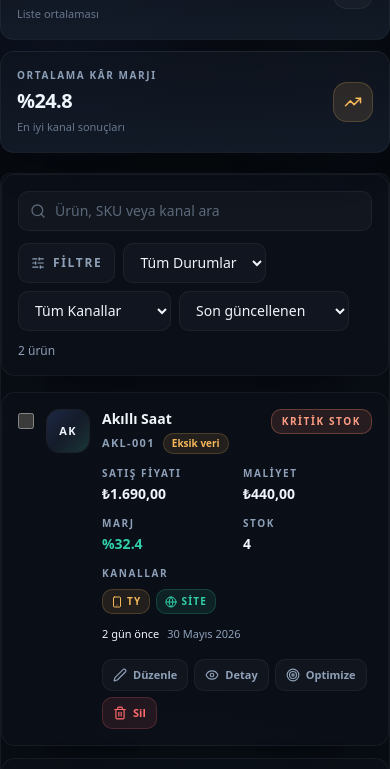
Scenario: DataCenterTabs › renders the products workspace with helper card, compact stats, and dense financial table
(page scrolled)
Expected: the text "Ortalama Kâr Marjı" is shown, [17,68,157,83]
Expected: the field with placeholder "Ürün, SKU veya kanal ara" is shown, [18,191,372,231]
Click the checkbox named "Akıllı Saat seç" at (26, 421), box [18,413,34,429]
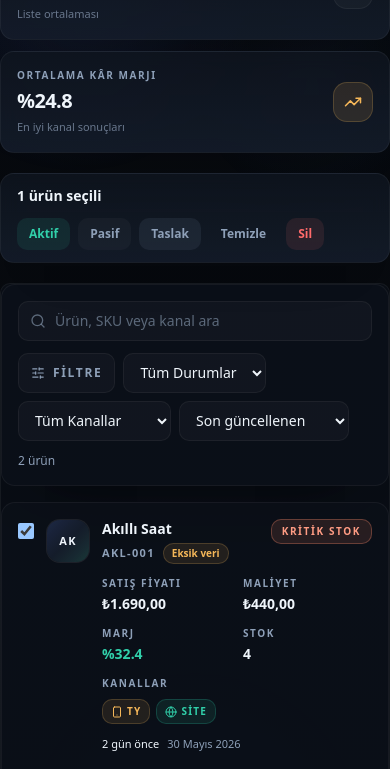
Result: the text "1 ürün seçili" is shown at [17,186,102,206]
Result: the button "Aktif" is shown at [17,218,70,250]
Result: the button "Pasif" is shown at [78,218,131,250]
